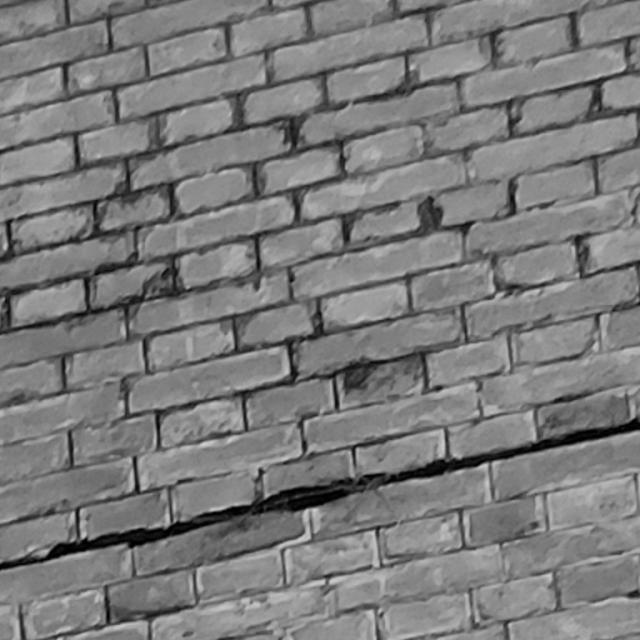crack: (1, 416, 638, 571)
